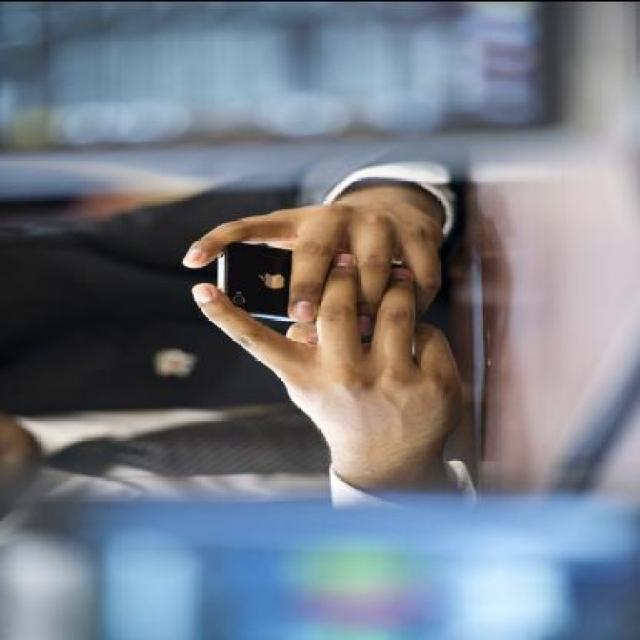phone: (219, 238, 407, 318)
